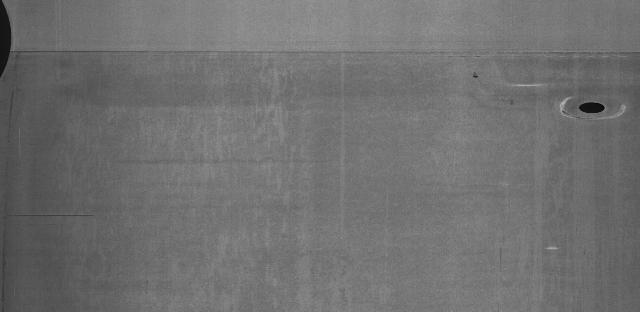punching_hole: (573, 96, 615, 118)
welding_line: (8, 43, 640, 64)
